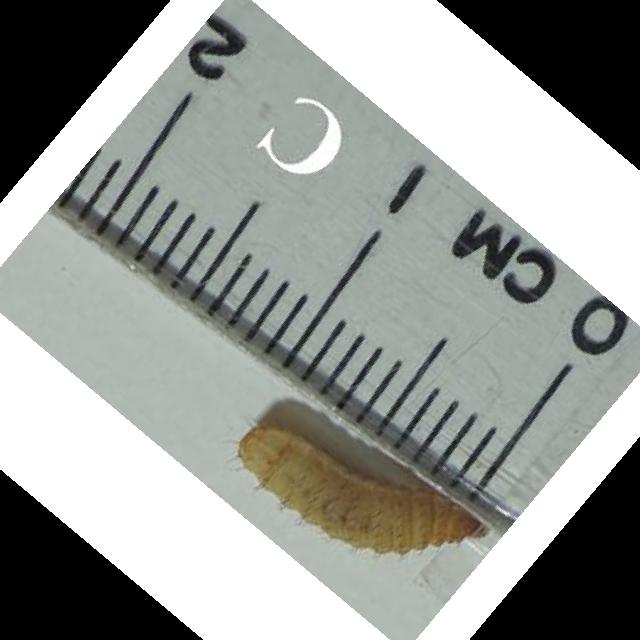Maggot: (231, 416, 489, 553)
